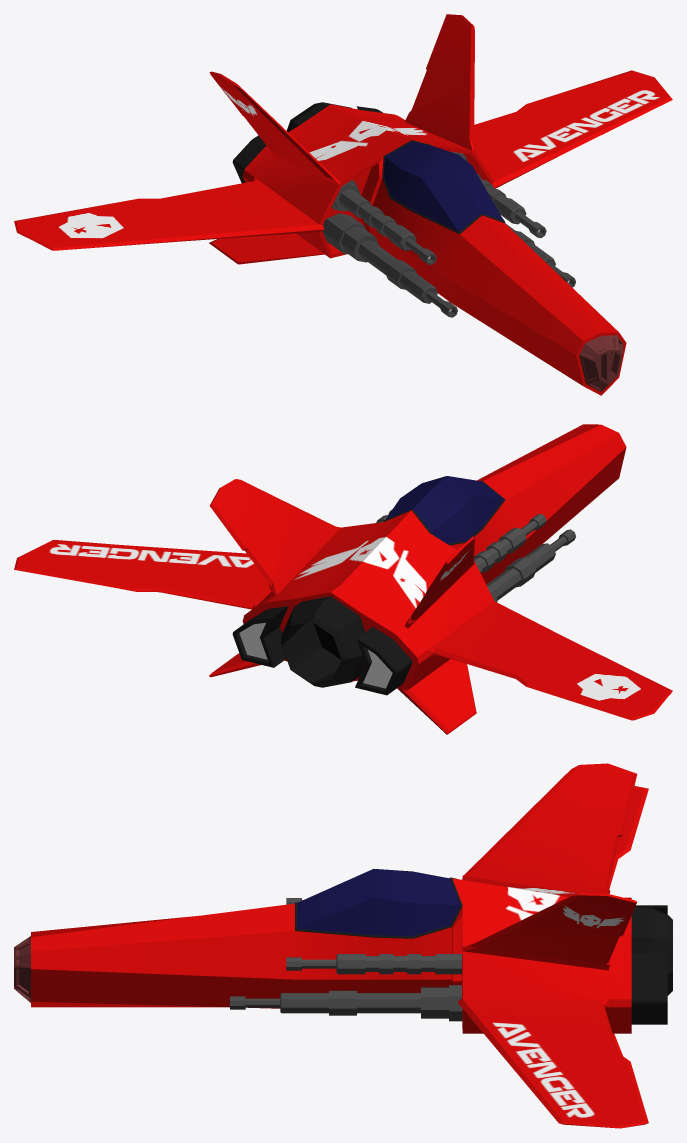
The model's file is Avenger I.fbx.
3 views of the same model, one above another, from view 1: azimuth 30°, elevation 25°; view 2: azimuth 150°, elevation 25°; view 3: azimuth 270°, elevation 25° (orthographic). The views are drawn at different scales.
Visible parts, largest first — view 1: ShipBody, Canopy, Powerful cannon, Main Cannon; view 2: ShipBody, Canopy, Powerful cannon, Main Cannon; view 3: ShipBody, Canopy, Powerful cannon, Main Cannon.
Part boxes in pixels (left/top/right/bottom): ShipBody: left=14, top=14, right=672, bottom=395; Canopy: left=382, top=140, right=505, bottom=234; Powerful cannon: left=322, top=213, right=575, bottom=317; Main Cannon: left=331, top=151, right=546, bottom=264; ShipBody: left=14, top=424, right=672, bottom=734; Canopy: left=383, top=476, right=505, bottom=545; Powerful cannon: left=486, top=529, right=575, bottom=602; Main Cannon: left=376, top=509, right=546, bottom=573; ShipBody: left=14, top=763, right=672, bottom=1128; Canopy: left=295, top=869, right=462, bottom=938; Powerful cannon: left=230, top=985, right=462, bottom=1021; Main Cannon: left=286, top=898, right=462, bottom=974.
Size of the model in its own units: 1706 by 460 by 1376.
